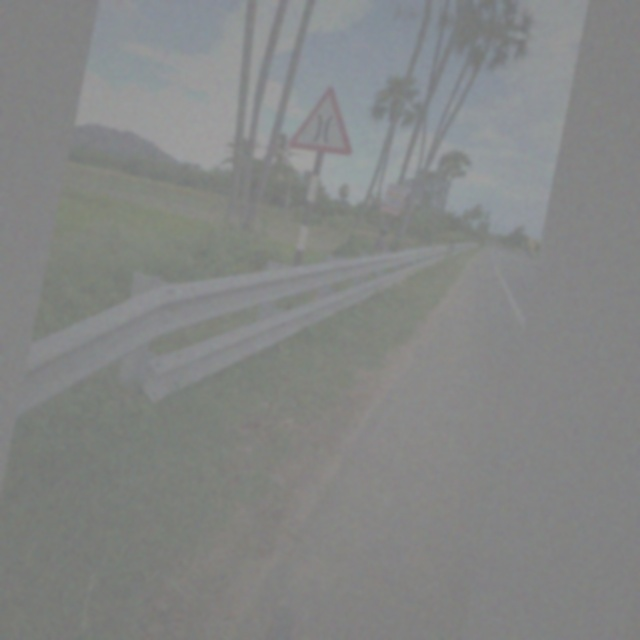Narrow_Bridge: (280, 74, 376, 168)
